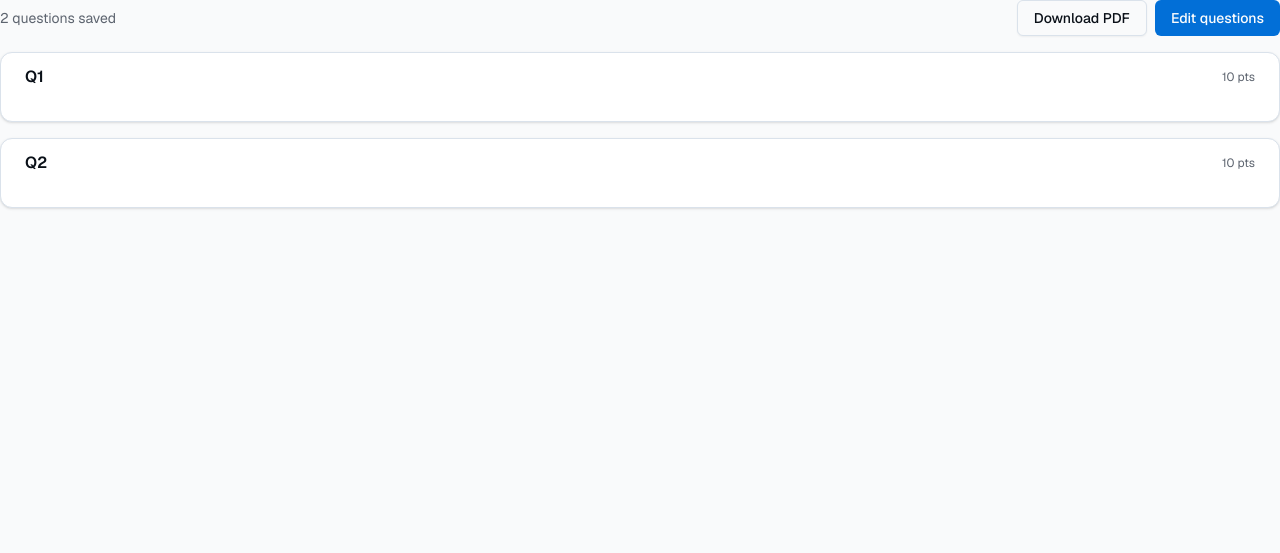
canEdit=true with no saved questions (edit mode) › deleting a question after a validation failure rebases field error keys
Click the button "Edit questions" at (1217, 18), box [1155,0,1279,36]
(page scrolled)
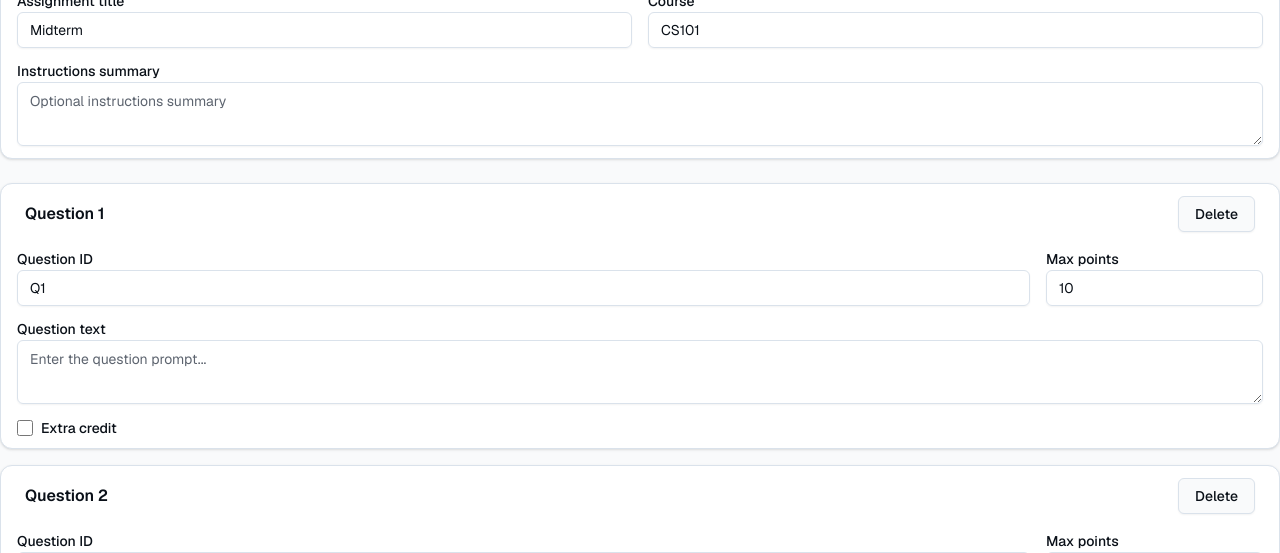
Submit the form
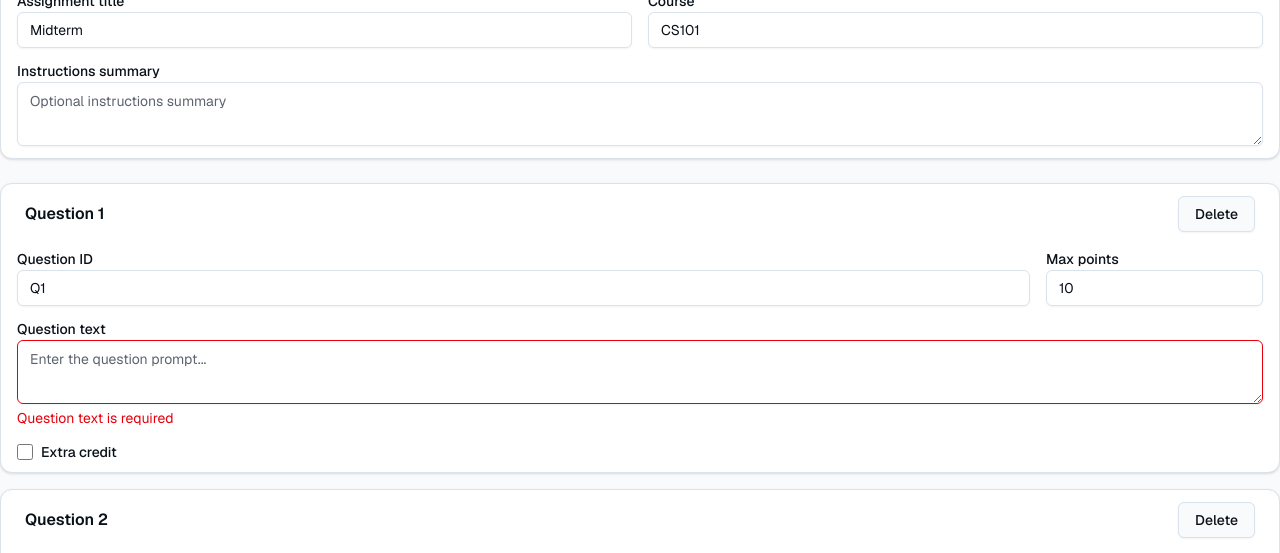
Click the 1st button "Delete" at (1216, 214), box [1178,196,1255,232]
(page scrolled)
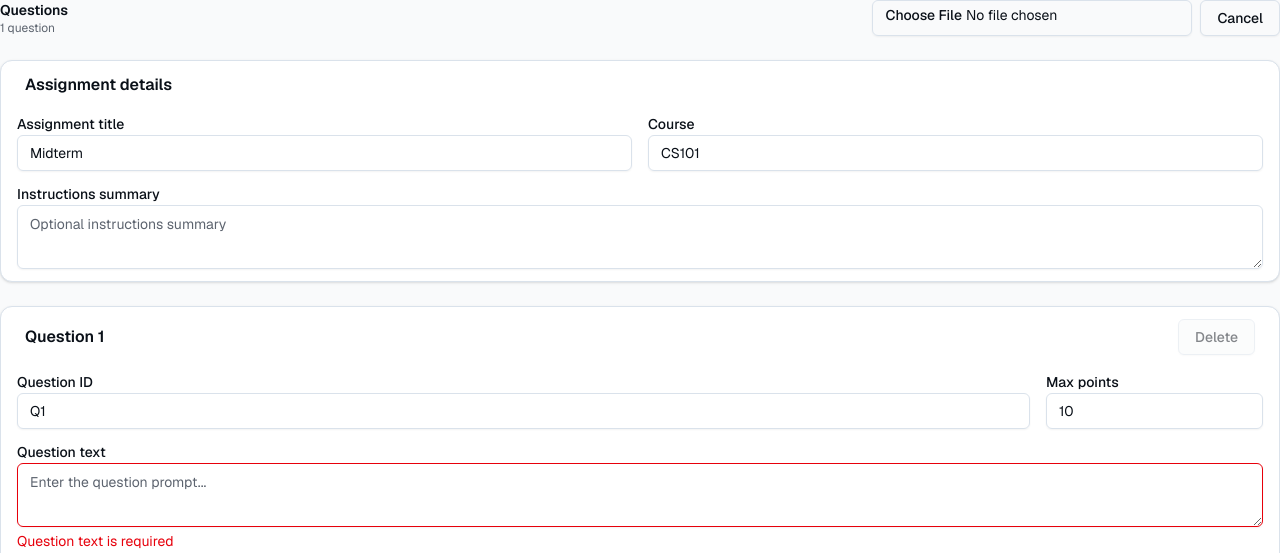
Expected: the text "Question 2" is gone
